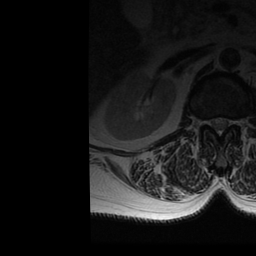CCS_normal: (217, 111, 223, 139)
LFS_stenosis: (229, 113, 235, 130)
LLS_normal: (223, 111, 229, 133)
RFS_stenosis: (202, 114, 209, 129)
RLS_normal: (210, 112, 216, 133)
